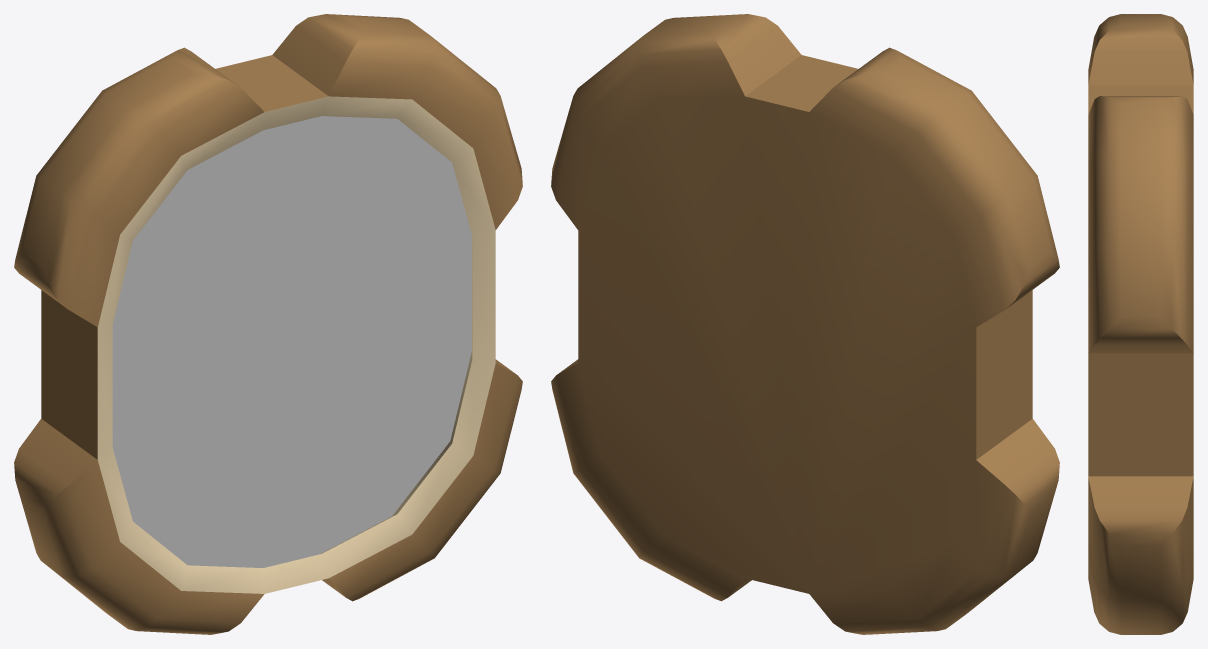
Rendered from Mirror_7C.fbx.
3 renders of one model, left to right at view 1: azimuth 30°, elevation 25°; view 2: azimuth 150°, elevation 25°; view 3: azimuth 270°, elevation 25°, orthographic. The views are drawn at different scales.
Parts seen in each view (by area): view 1: Mirror_7C; view 2: Mirror_7C; view 3: Mirror_7C.
Part boxes in pixels (left/top/right/bottom): Mirror_7C: left=14, top=14, right=522, bottom=634; Mirror_7C: left=551, top=14, right=1059, bottom=634; Mirror_7C: left=1088, top=14, right=1193, bottom=634.
Bounding box in the file's own units: 0.7768 × 0.8795 × 0.1611.
